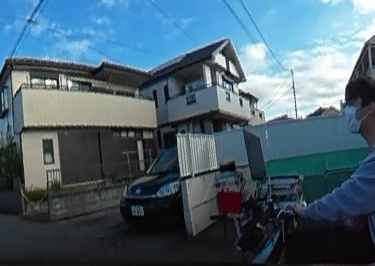person: (293, 72, 375, 266)
